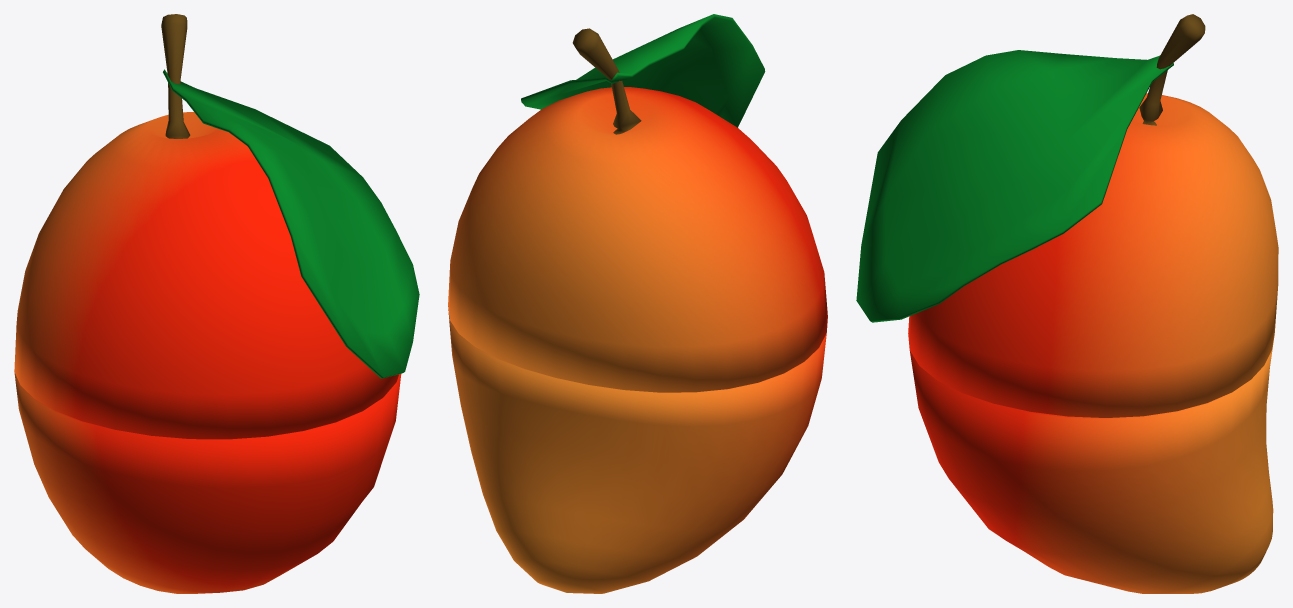
File: MangoSplit.fbx
The picture shows the model from 3 angles, left to right: view 1: azimuth 30°, elevation 25°; view 2: azimuth 150°, elevation 25°; view 3: azimuth 270°, elevation 25°; orthographic projection. The views are drawn at different scales.
Parts seen in each view (by area): view 1: Mango.001, Mango.002; view 2: Mango.001, Mango.002; view 3: Mango.001, Mango.002.
Boxes of the visible parts, x1,y1,x2,y2 form: Mango.001: (14, 14, 419, 439); Mango.002: (14, 372, 401, 593); Mango.001: (448, 14, 827, 392); Mango.002: (448, 306, 826, 593); Mango.001: (856, 14, 1278, 417); Mango.002: (909, 337, 1274, 593).
Bounding box in the file's own units: 483 × 756 × 509.
2 materials, 2 textured.
